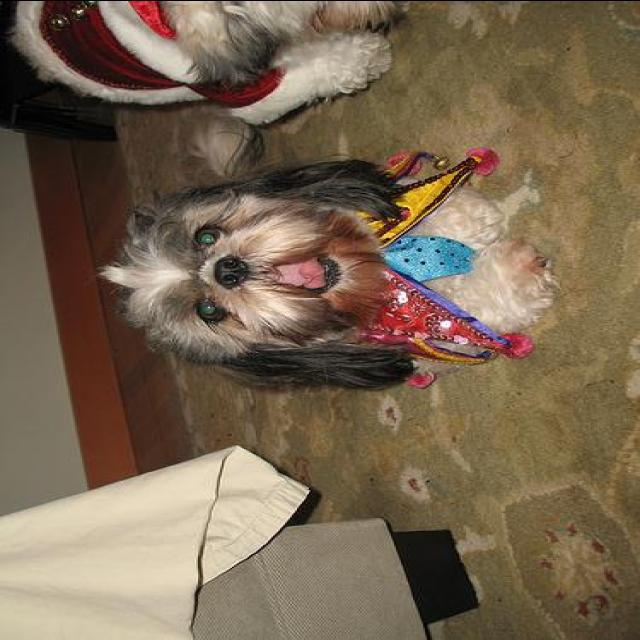shih_tzu: (102, 160, 558, 392), (12, 4, 416, 130)
